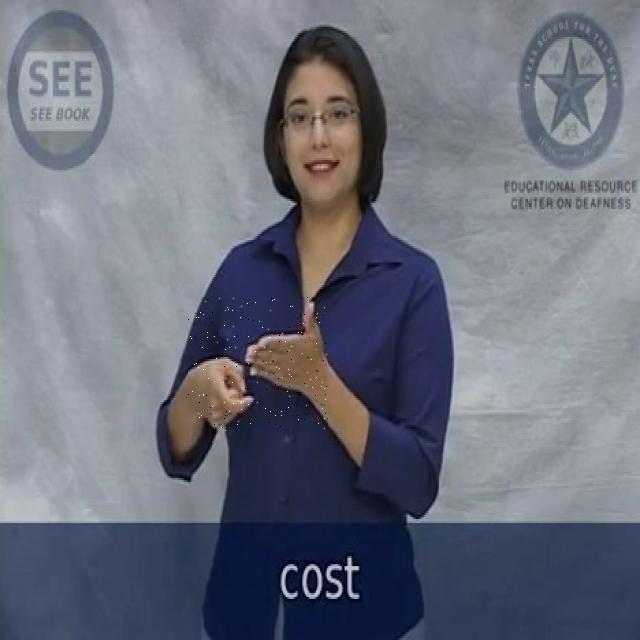cost: (188, 298, 328, 432)
